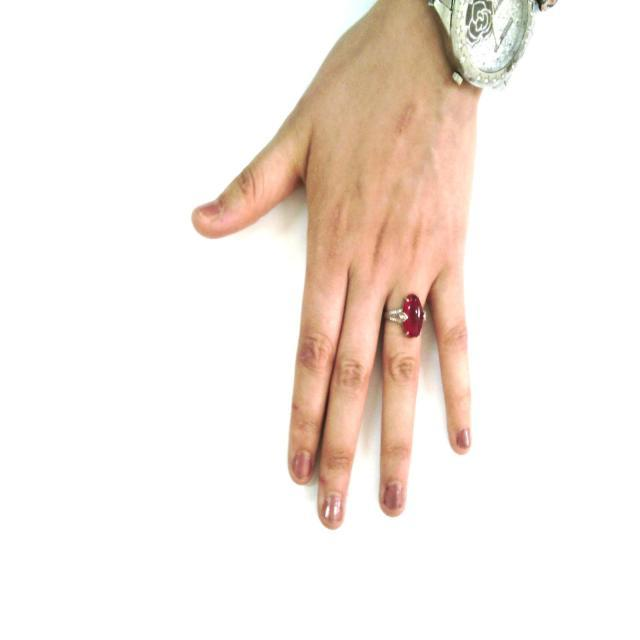Fingernail: (324, 494, 342, 524), (384, 482, 401, 509), (294, 452, 310, 480), (197, 202, 220, 219), (458, 430, 469, 450)
